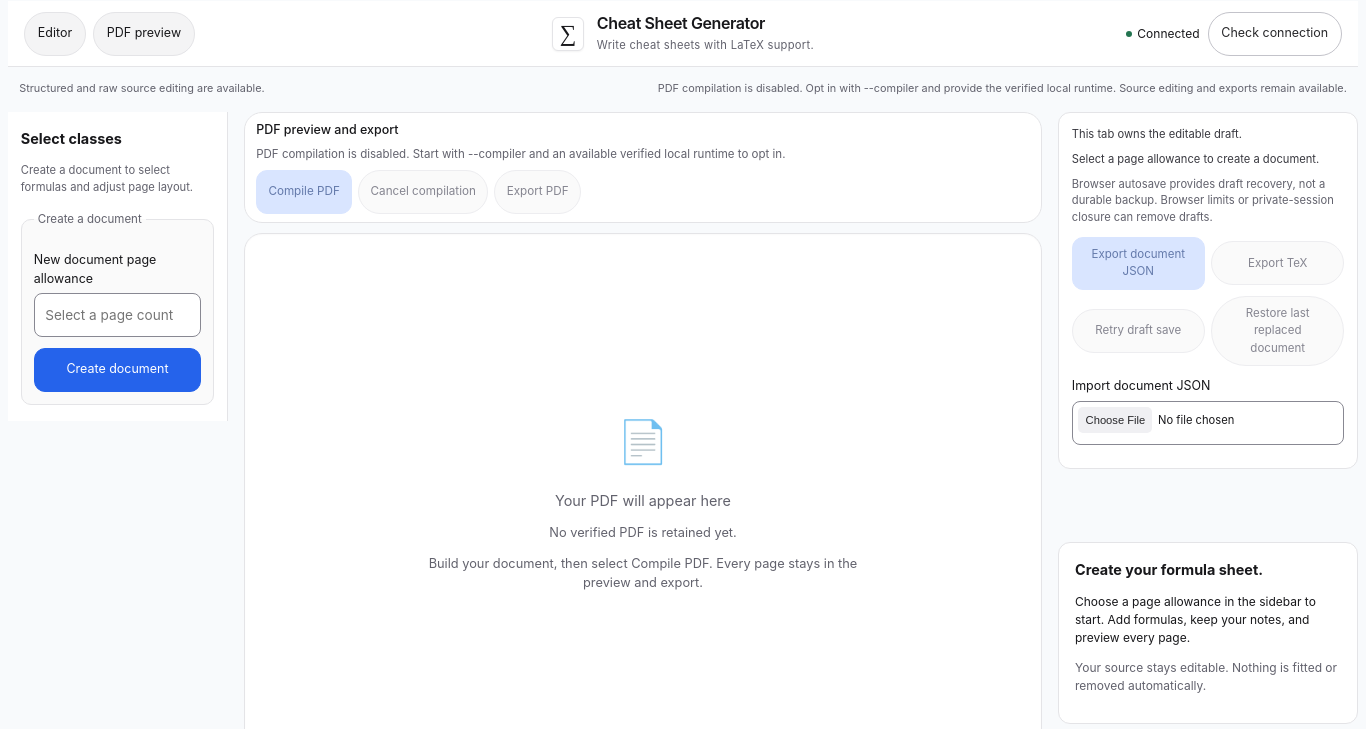
Test: save failure is visible and Clear stops without loss when recovery fails
Type "3" into the number field labelled "New document page allowance" at (118, 315), box [34,293,201,337]
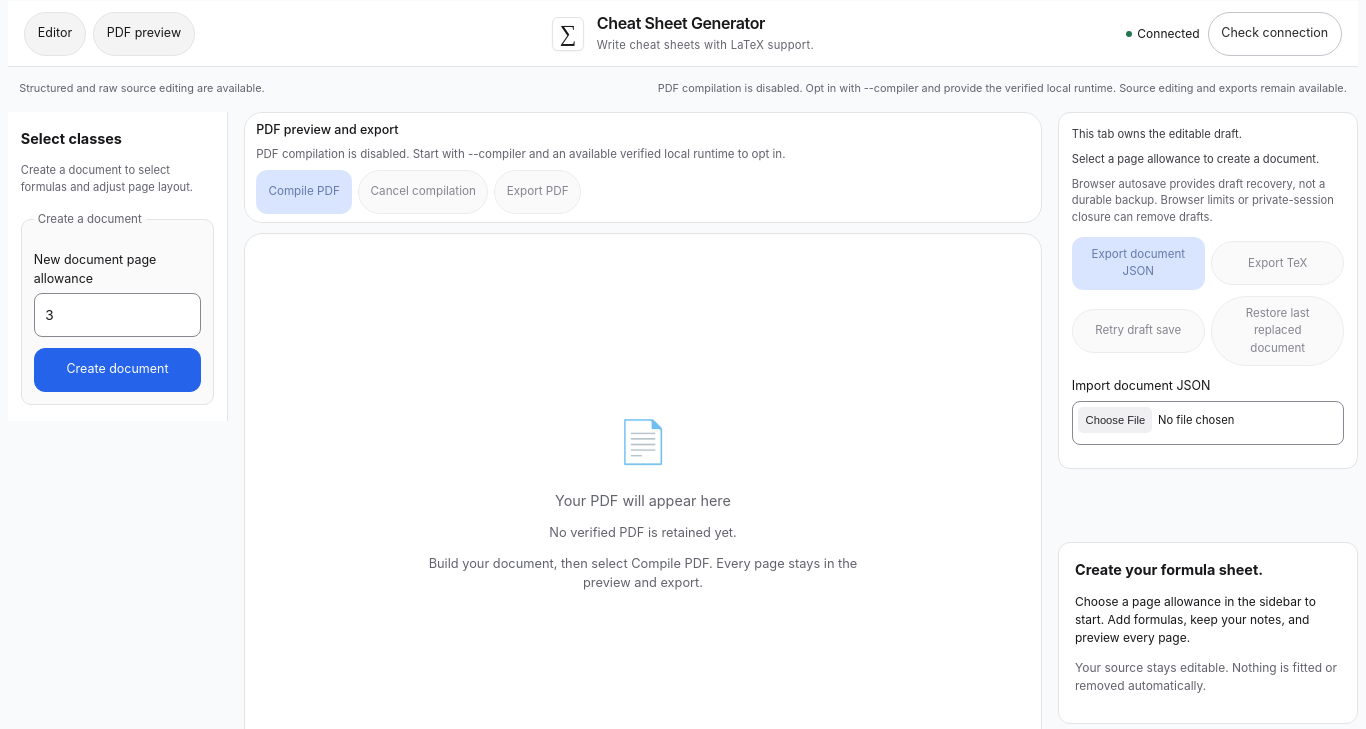
Click the button "Create document" at (118, 370), box [34,348,201,392]
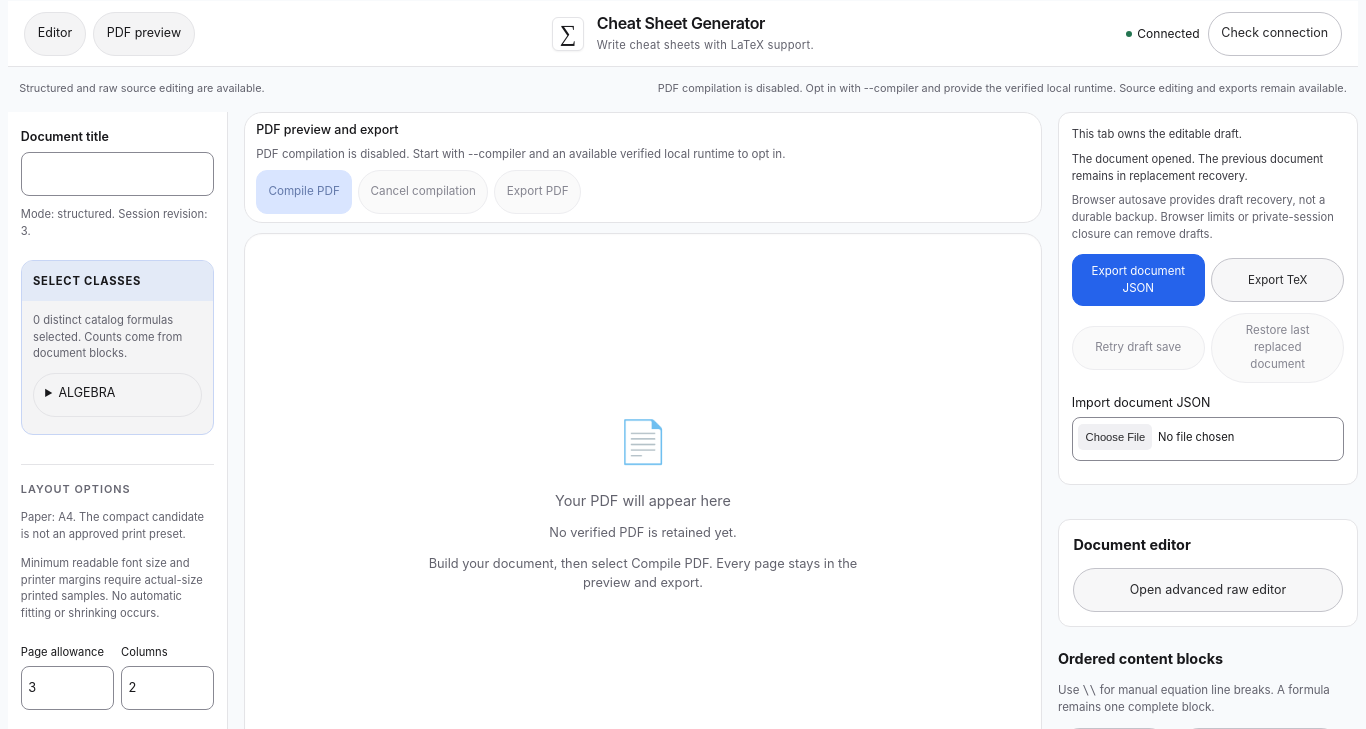
Expected: the field labelled "Document title" is shown
Type "In memory" into the field labelled "Document title" at (118, 174), box [21,152,214,196]
(page scrolled)
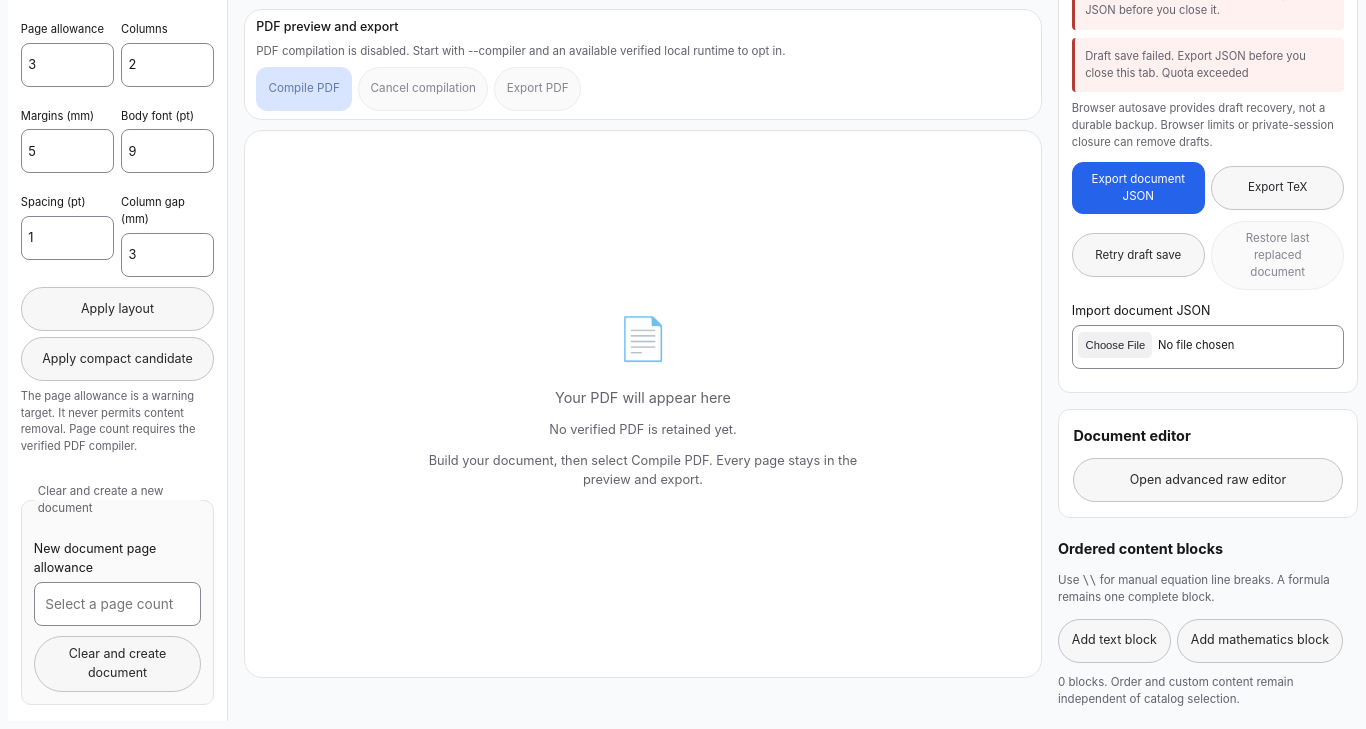
Expected: the button "Export document JSON" is enabled, [1072,162,1205,214]
Expected: the text "Draft save failed. Export JSON before you close this tab. Quota exceeded" is shown, [1072,38,1344,92]
Type "2" into the number field labelled "New document page allowance" at (118, 604), box [34,582,201,626]
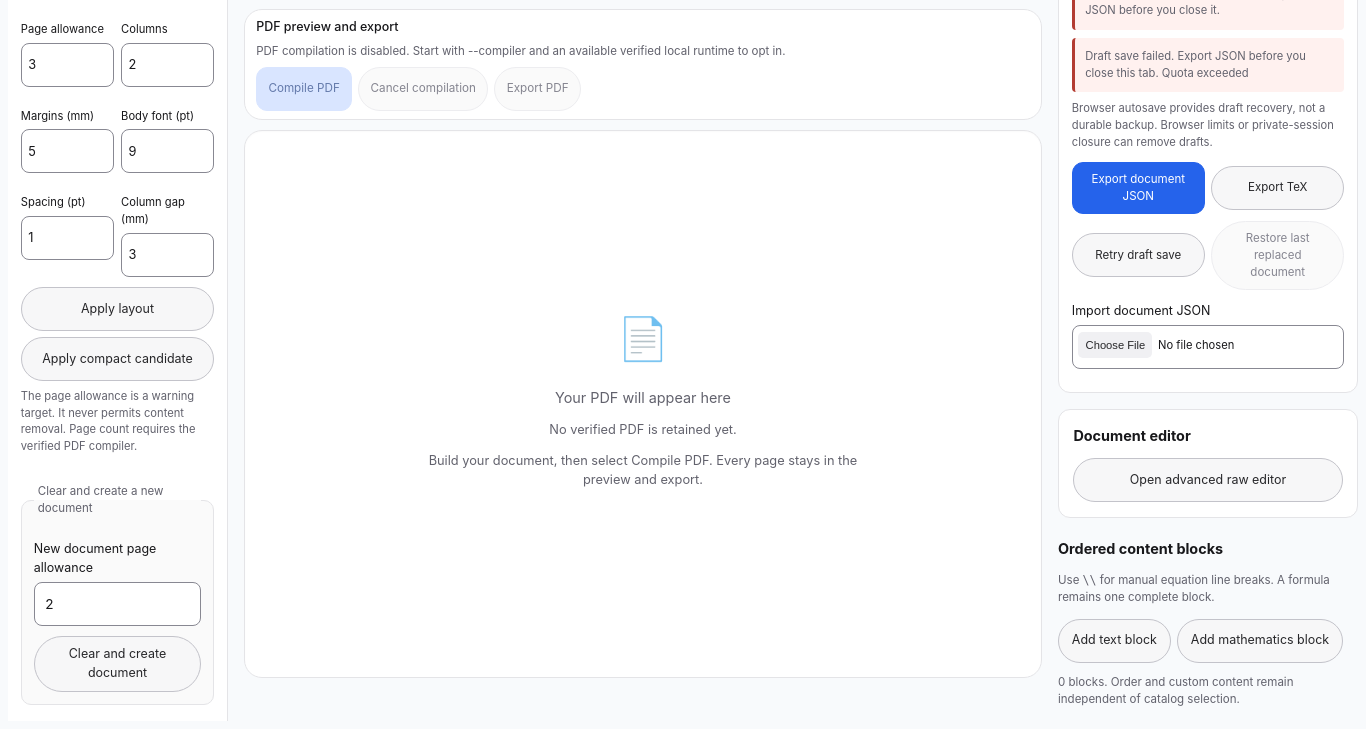
Click the button "Clear and create document" at (118, 664), box [34,636,201,692]
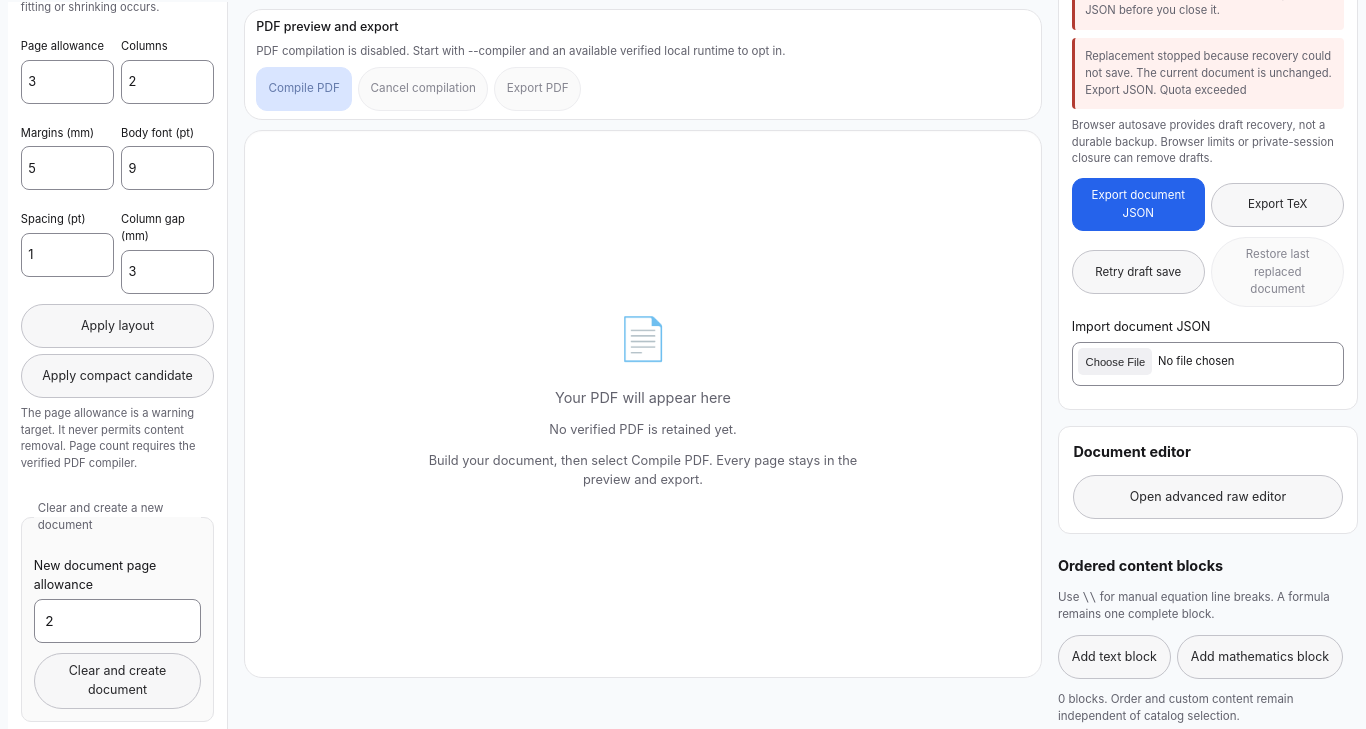
Expected: the text "Replacement stopped" is shown, [1085,49,1332,97]
Click the button "Clear and create document" at (118, 681), box [34,653,201,709]
(page scrolled)
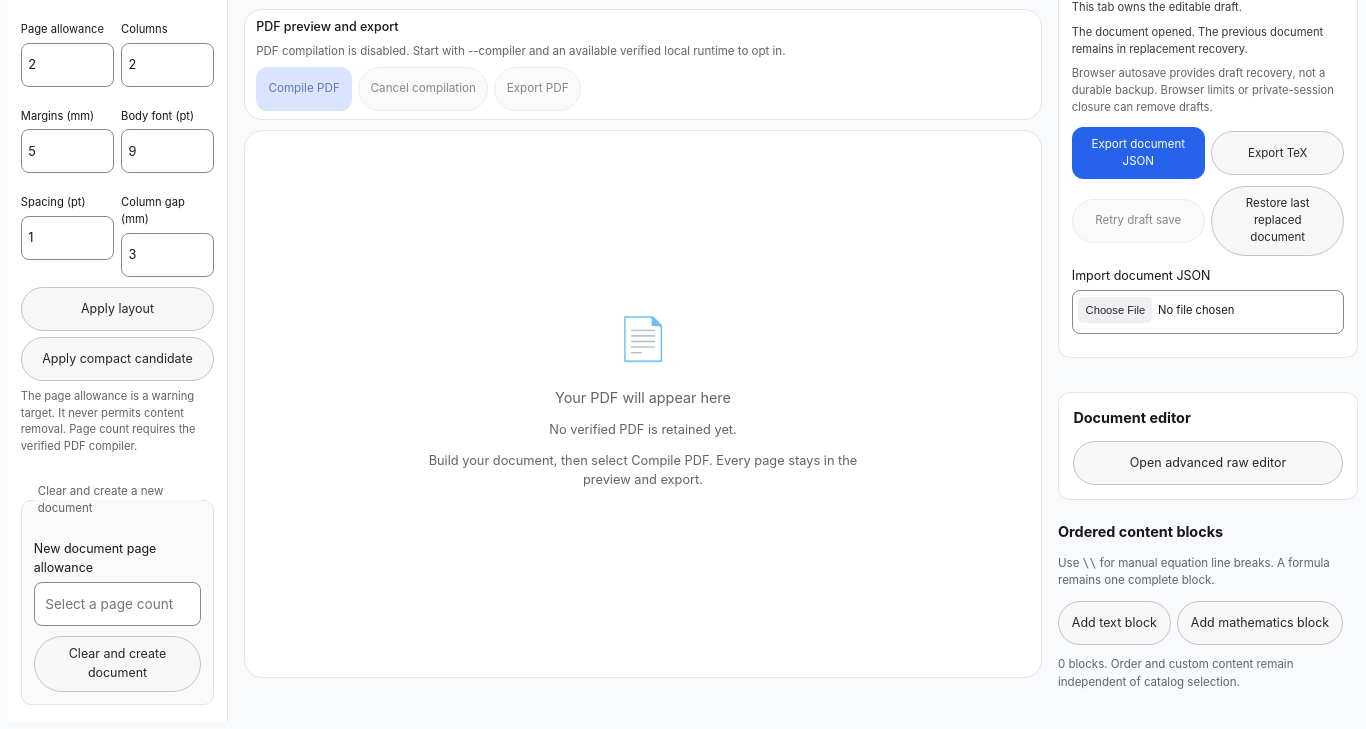
Expected: the number field labelled "New document page allowance" is empty, [34,582,201,626]
